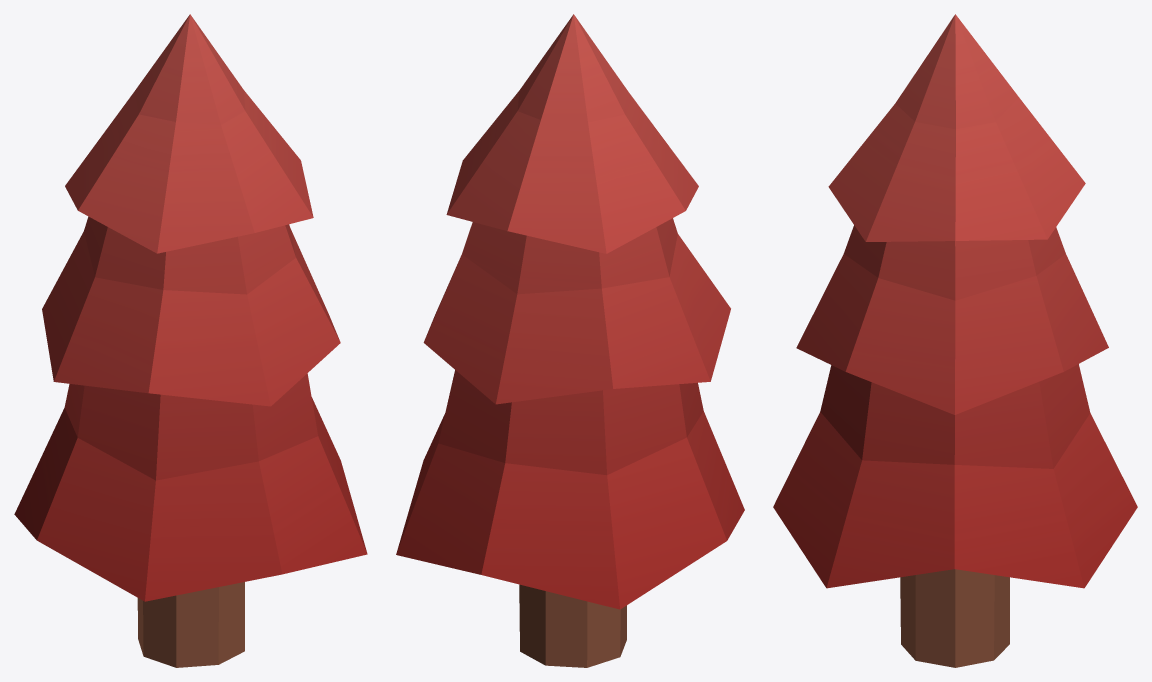
File: Tree_01_gradient_red.fbx
3 views of the same model, side by side, from view 1: azimuth 30°, elevation 25°; view 2: azimuth 150°, elevation 25°; view 3: azimuth 270°, elevation 25° (orthographic).
Parts seen in each view (by area): view 1: Tree_01_gradient_red; view 2: Tree_01_gradient_red; view 3: Tree_01_gradient_red.
Boxes of the visible parts, x1,y1,x2,y2 form: Tree_01_gradient_red: [14, 14, 367, 667]; Tree_01_gradient_red: [396, 14, 744, 667]; Tree_01_gradient_red: [773, 14, 1137, 667].
Size of the model in its own units: 83.22 by 165 by 86.78.
